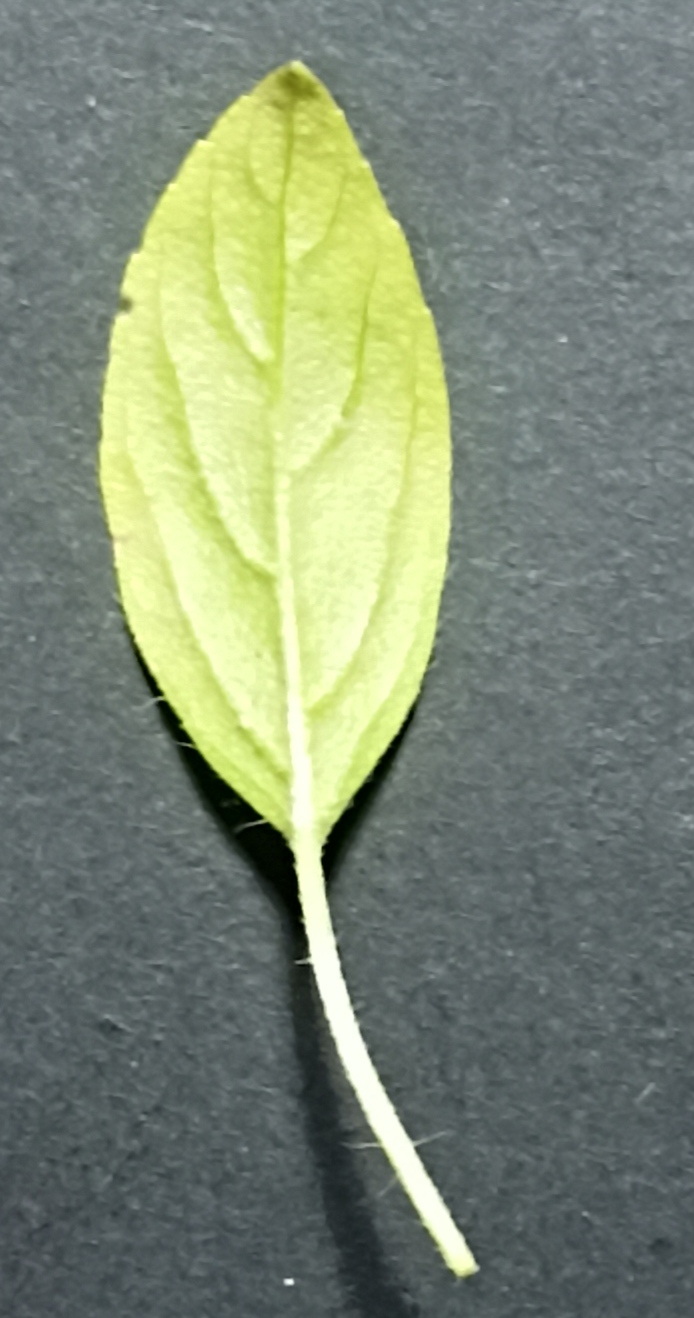Healthy: (102, 32, 461, 871)
